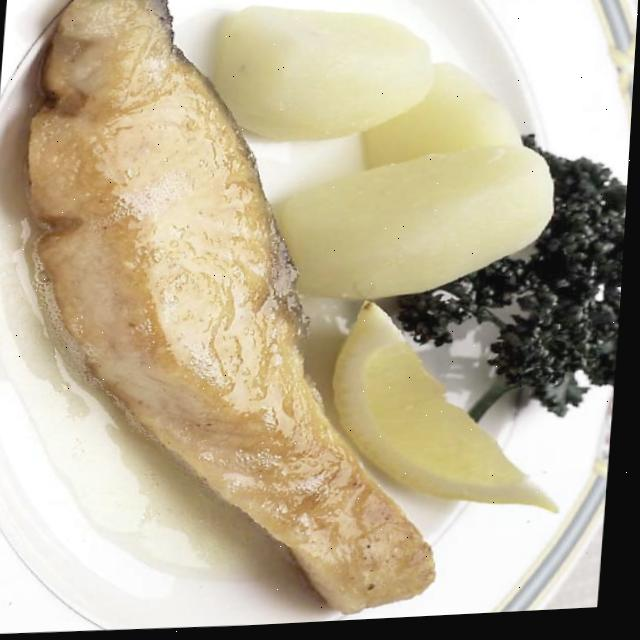熟制海鲜: (0, 0, 494, 639)
